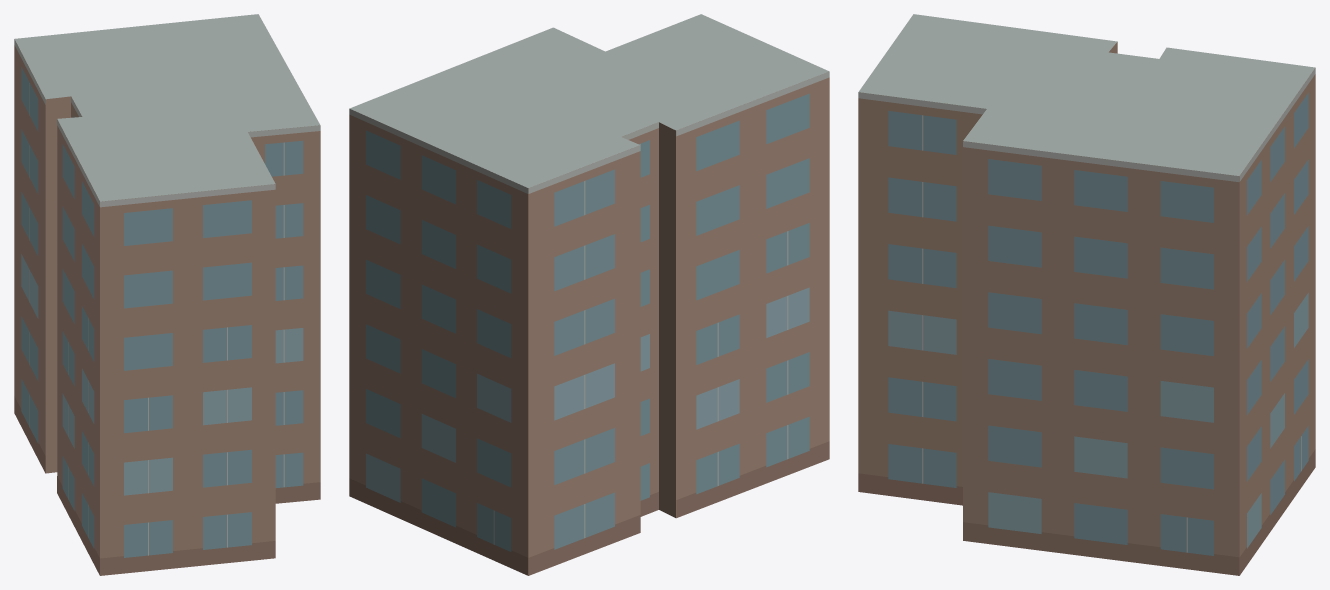
The model's file is survey-upis-32976995.glb.
3 renders of one model, left to right at view 1: azimuth 30°, elevation 25°; view 2: azimuth 150°, elevation 25°; view 3: azimuth 270°, elevation 25°, orthographic. The views are drawn at different scales.
Visible parts, largest first — view 1: survey-upis-32976995.tmp; view 2: survey-upis-32976995.tmp; view 3: survey-upis-32976995.tmp.
Boxes of the visible parts, left/top/right/bottom form: survey-upis-32976995.tmp: left=14, top=14, right=320, bottom=575; survey-upis-32976995.tmp: left=349, top=14, right=829, bottom=575; survey-upis-32976995.tmp: left=858, top=14, right=1315, bottom=575.
Bounding box in the file's own units: 13.93 × 16 × 16.6.
